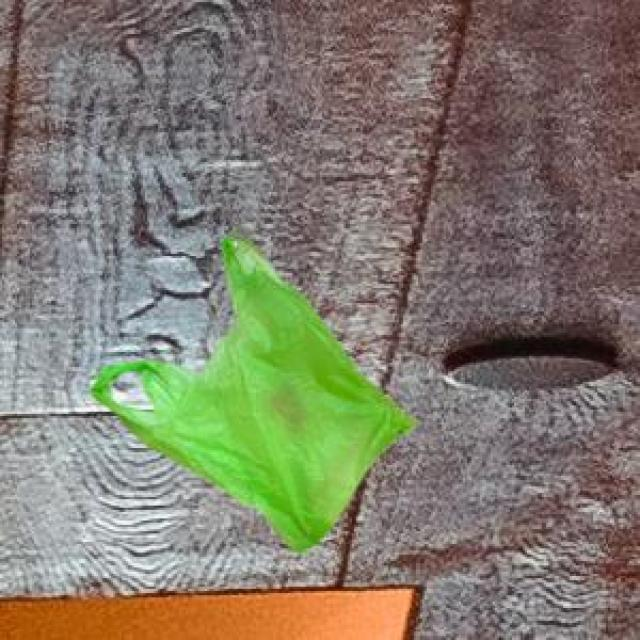plastic: (82, 183, 442, 581)
